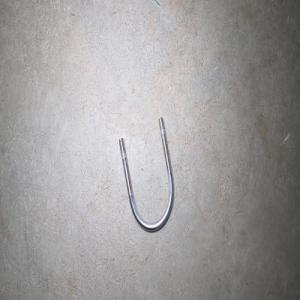ClampPart: (118, 116, 175, 233)
